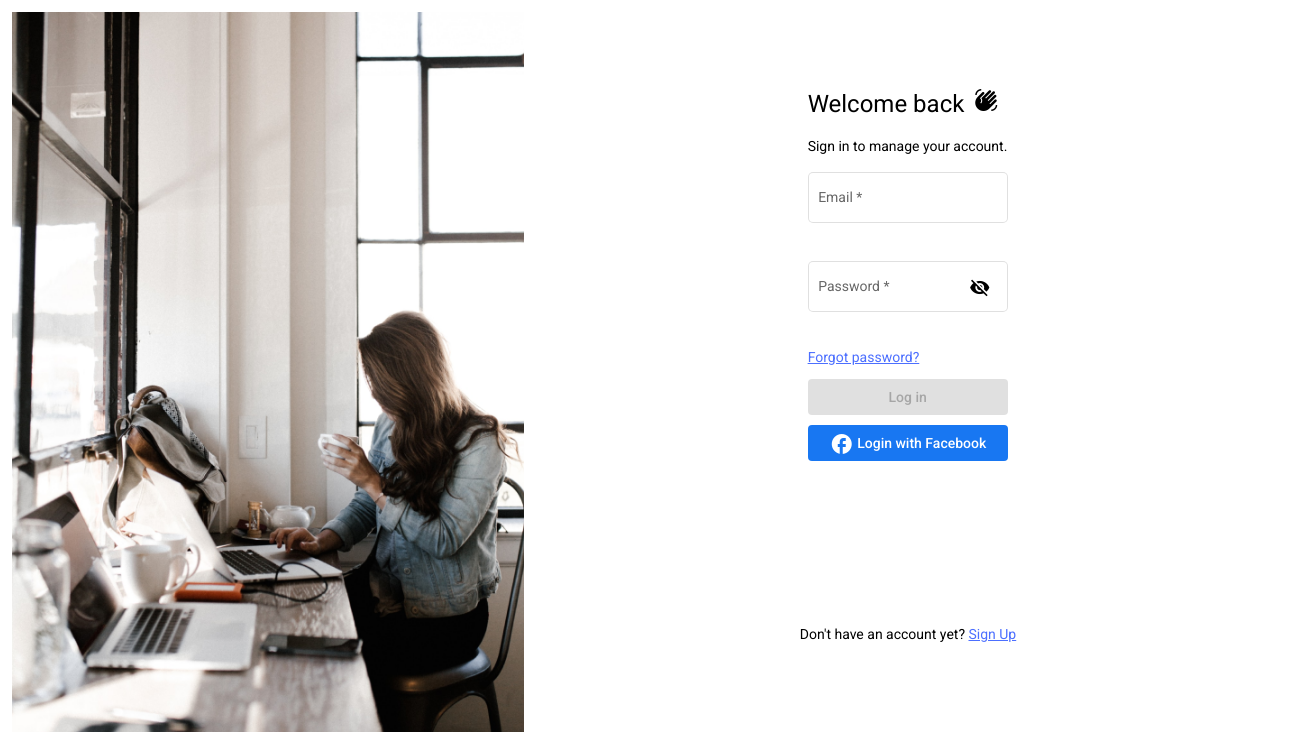
Scenario: Login › Form should be valid
Type "mail1@mail.com" into the field named "email".
click(908, 202); type("mail1@mail.com")  # box [818,194,997,210]
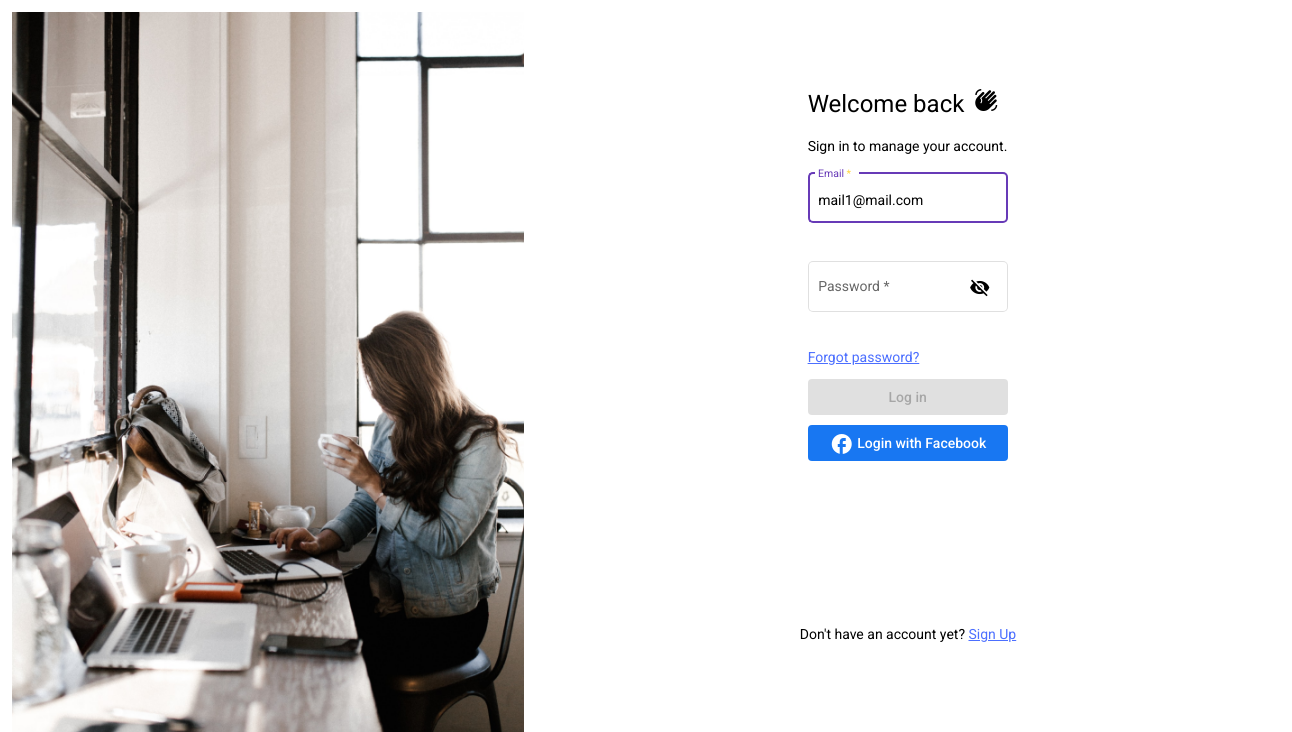
Type "Sombra1234" into the element showing "Password *".
click(908, 290); type("Sombra1234")  # box [808,282,1008,298]
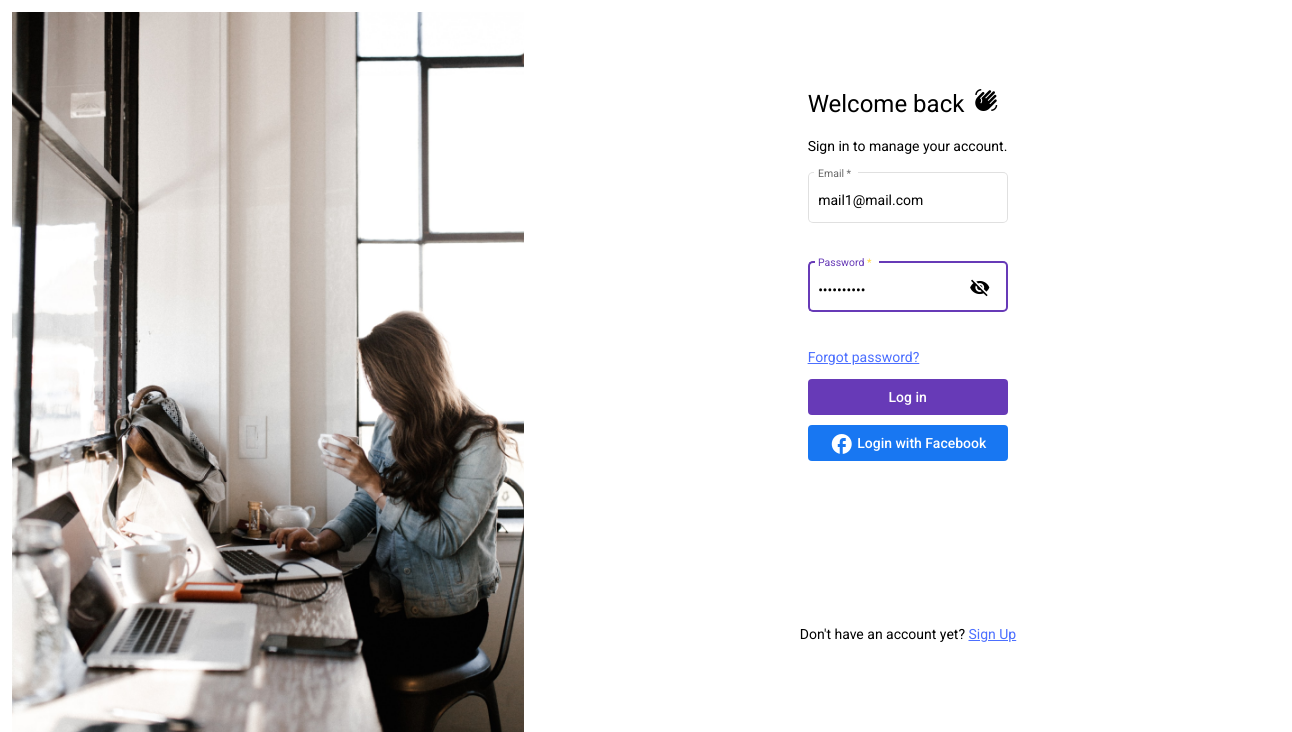
Result: the submit button is enabled at [808,379,1008,415]
